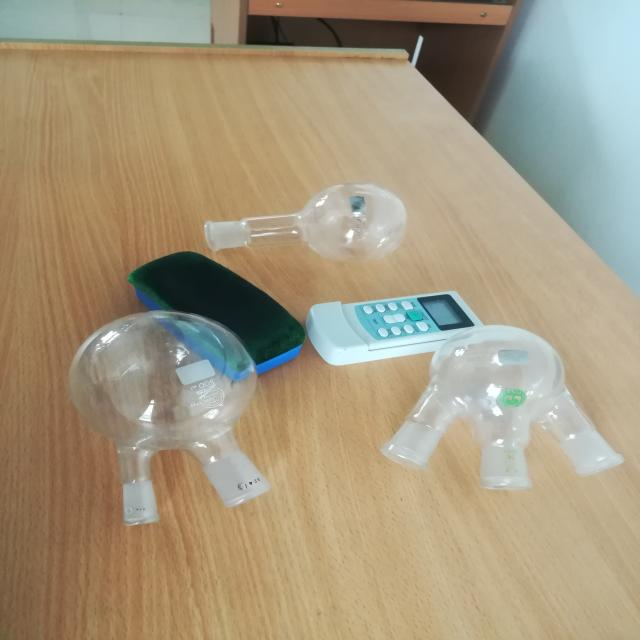Round_Bottom_Flask_Borosilicate_Glass_1_Neck: (175, 178, 454, 278)
Round_Bottom_Flask_Borosilicate_Glass_2_Neck: (37, 299, 299, 547)
Round_Bottom_Flask_Borosilicate_Glass_3_Neck: (360, 313, 640, 520)
